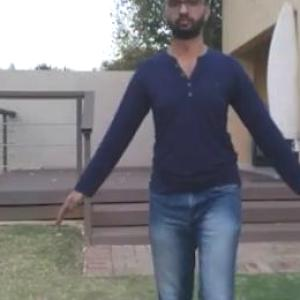land: (75, 6, 299, 299)
